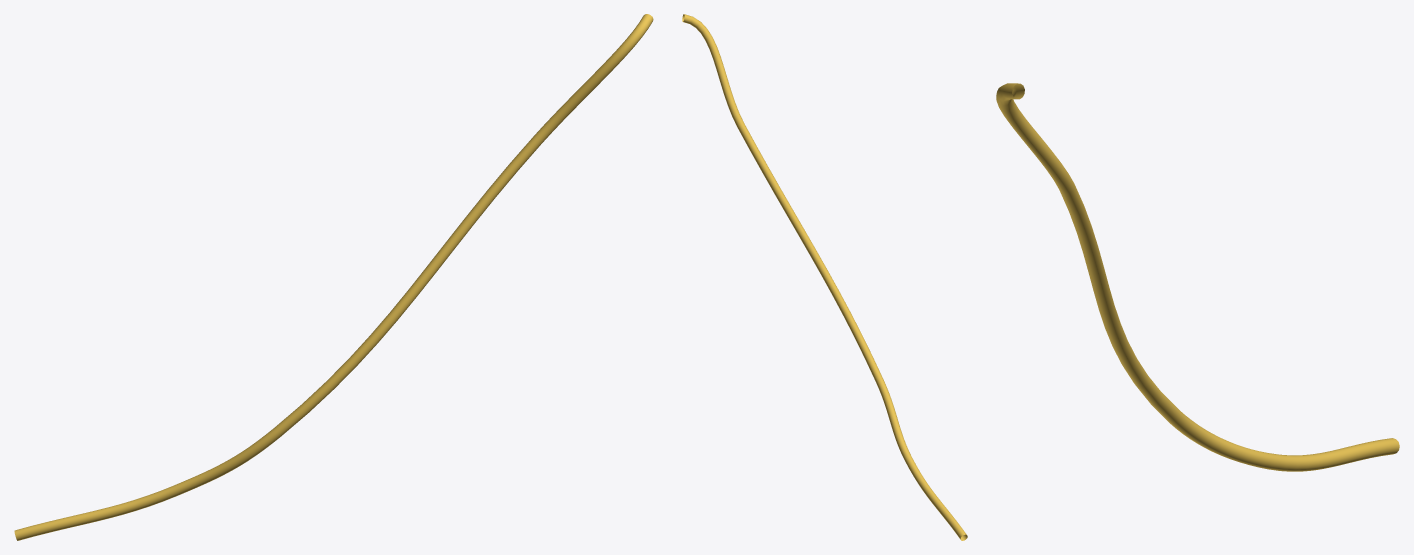
File: Lateral_cord_brachial_plexus_right.glb
The picture shows the model from 3 angles, left to right: view 1: azimuth 30°, elevation 25°; view 2: azimuth 150°, elevation 25°; view 3: azimuth 270°, elevation 25°; orthographic projection. The views are drawn at different scales.
Parts seen in each view (by area): view 1: Lateral_cord_of_brachial_plexus.r_BezierCurve.518; view 2: Lateral_cord_of_brachial_plexus.r_BezierCurve.518; view 3: Lateral_cord_of_brachial_plexus.r_BezierCurve.518.
Boxes of the visible parts, left/top/right/bottom form: Lateral_cord_of_brachial_plexus.r_BezierCurve.518: left=14, top=14, right=653, bottom=540; Lateral_cord_of_brachial_plexus.r_BezierCurve.518: left=682, top=14, right=967, bottom=540; Lateral_cord_of_brachial_plexus.r_BezierCurve.518: left=996, top=83, right=1399, bottom=471.
Bounding box in the file's own units: 0.0534 × 0.0495 × 0.0246.
